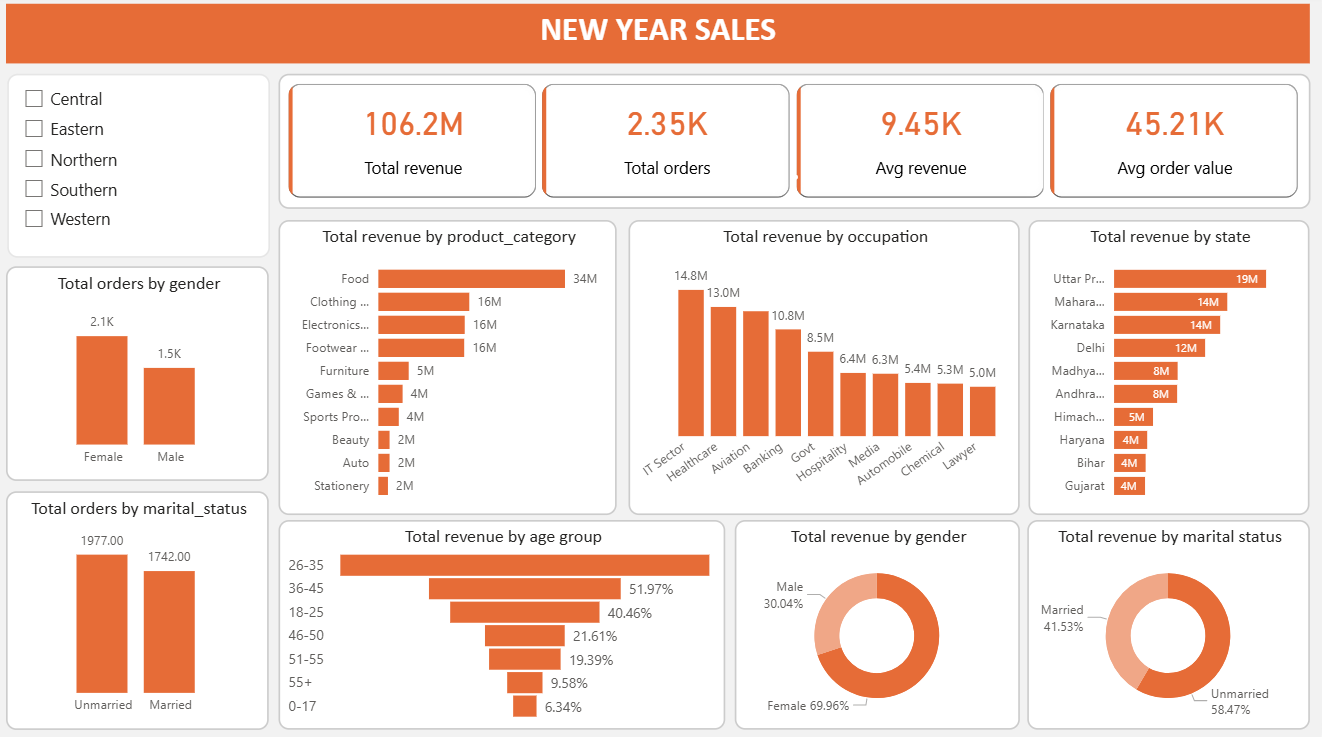

The dashboard page shown, as its layout file describes it:
{"tool":"powerbi","page":{"name":"Dashboard","canvas":[1280,720],"ordinal":0},"visuals":[{"type":"cardVisual","fields":{"Data":["new_year_sales.Total_Revenue","new_year_sales.Total Orders","new_year_sales.Avg Revenue","new_year_sales.avg order value"]},"box":[272.5,76.2,996.2,130],"z":0},{"type":"textbox","box":[10,8.8,1258.8,57.5],"z":1000},{"type":"funnel","title":"Total revenue by age group","fields":{"Category":["new_year_sales.age_group"],"Y":["new_year_sales.Total revenue"]},"box":[272.5,506.2,431.2,202.5],"z":2000},{"type":"clusteredBarChart","fields":{"Category":["new_year_sales.state"],"Y":["new_year_sales.Total revenue"]},"box":[996.2,217.5,271.2,285],"z":3000},{"type":"barChart","fields":{"Category":["new_year_sales.product_category"],"Y":["new_year_sales.Total revenue"]},"box":[272.5,217.5,326.2,285],"z":4000},{"type":"donutChart","title":"Total revenue by marital status","fields":{"Category":["new_year_sales.marital_status"],"Y":["new_year_sales.Total revenue"]},"box":[995,506.2,272.5,202.5],"z":5000},{"type":"columnChart","fields":{"Y":["new_year_sales.Total revenue"],"Category":["new_year_sales.occupation"]},"box":[610,217.5,377.5,285],"z":6000},{"type":"donutChart","fields":{"Y":["new_year_sales.Total revenue"],"Category":["new_year_sales.gender"]},"box":[712.5,506.2,275,202.5],"z":7000},{"type":"slicer","fields":{"Values":["new_year_sales.zone"]},"box":[11.2,76.2,253.8,177.5],"z":8000},{"type":"clusteredColumnChart","fields":{"Category":["new_year_sales.gender"],"Y":["new_year_sales.Total orders"]},"box":[10,261.2,253.8,207.5],"z":9000},{"type":"clusteredColumnChart","fields":{"Category":["new_year_sales.marital_status"],"Y":["new_year_sales.Total orders"]},"box":[10,478.8,253.8,230],"z":10000}]}

Visuals, with their boxes in screenshot pixels (x1, y1, x2, y2), scaled from the page's 1280x720 canvas onto the 1322x737 screenshot:
cardVisual - new_year_sales.Total_Revenue x new_year_sales.Total Orders: 281/78/1310/211
textbox: 10/9/1310/68
"Total revenue by age group" funnel: 281/518/727/725
clusteredBarChart - new_year_sales.state x new_year_sales.Total revenue: 1029/223/1309/514
barChart - new_year_sales.product_category x new_year_sales.Total revenue: 281/223/618/514
"Total revenue by marital status" donutChart: 1028/518/1309/725
columnChart - new_year_sales.Total revenue x new_year_sales.occupation: 630/223/1020/514
donutChart - new_year_sales.Total revenue x new_year_sales.gender: 736/518/1020/725
slicer - new_year_sales.zone: 12/78/274/260
clusteredColumnChart - new_year_sales.gender x new_year_sales.Total orders: 10/267/272/480
clusteredColumnChart - new_year_sales.marital_status x new_year_sales.Total orders: 10/490/272/726
